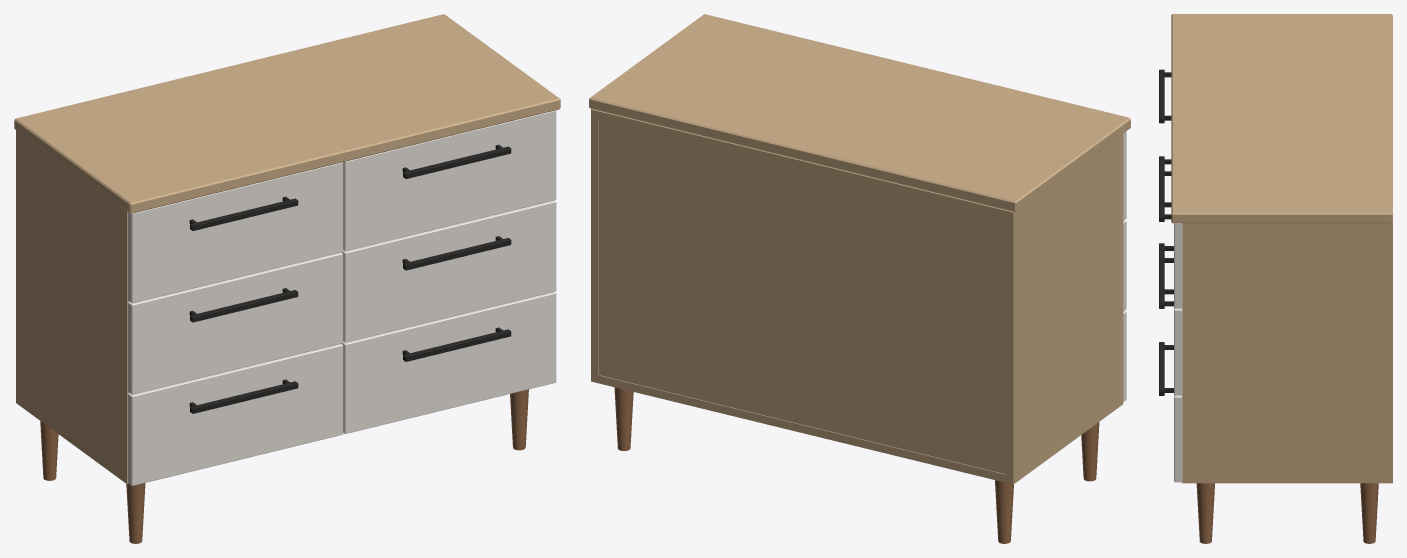
The model's file is 12_komoda_100_2x3.glb.
The picture shows the model from 3 angles, left to right: view 1: azimuth 30°, elevation 25°; view 2: azimuth 150°, elevation 25°; view 3: azimuth 270°, elevation 25°; orthographic projection. The views are drawn at different scales.
Parts seen in each view (by area): view 1: Wierzch, Korpus, Front_szuflada_2, Front_szuflada_3, Front_szuflada_6, Front_szuflada_5, Front_szuflada_1, Front_szuflada_4, Uchwyty, Nogi; view 2: Korpus, Wierzch, Nogi; view 3: Korpus, Wierzch, Uchwyty, Nogi, Front_szuflada_5, Front_szuflada_6, Front_szuflada_4.
Boxes of the visible parts, x1,y1,x2,y2 form: Wierzch: [14, 14, 560, 213]; Korpus: [16, 130, 129, 483]; Front_szuflada_2: [128, 252, 343, 394]; Front_szuflada_3: [128, 344, 343, 485]; Front_szuflada_6: [341, 291, 556, 433]; Front_szuflada_5: [342, 200, 556, 342]; Front_szuflada_1: [128, 162, 343, 303]; Front_szuflada_4: [343, 110, 556, 251]; Uchwyty: [189, 144, 511, 413]; Nogi: [40, 389, 528, 543]; Korpus: [591, 109, 1123, 484]; Wierzch: [589, 14, 1130, 212]; Nogi: [614, 387, 1099, 543]; Korpus: [1182, 222, 1392, 483]; Wierzch: [1171, 14, 1392, 223]; Uchwyty: [1159, 69, 1173, 395]; Nogi: [1196, 483, 1378, 543]; Front_szuflada_5: [1174, 308, 1182, 395]; Front_szuflada_6: [1174, 395, 1182, 482]; Front_szuflada_4: [1174, 223, 1182, 308].
Bounding box in the file's own units: 1.01 × 0.8 × 0.5.
